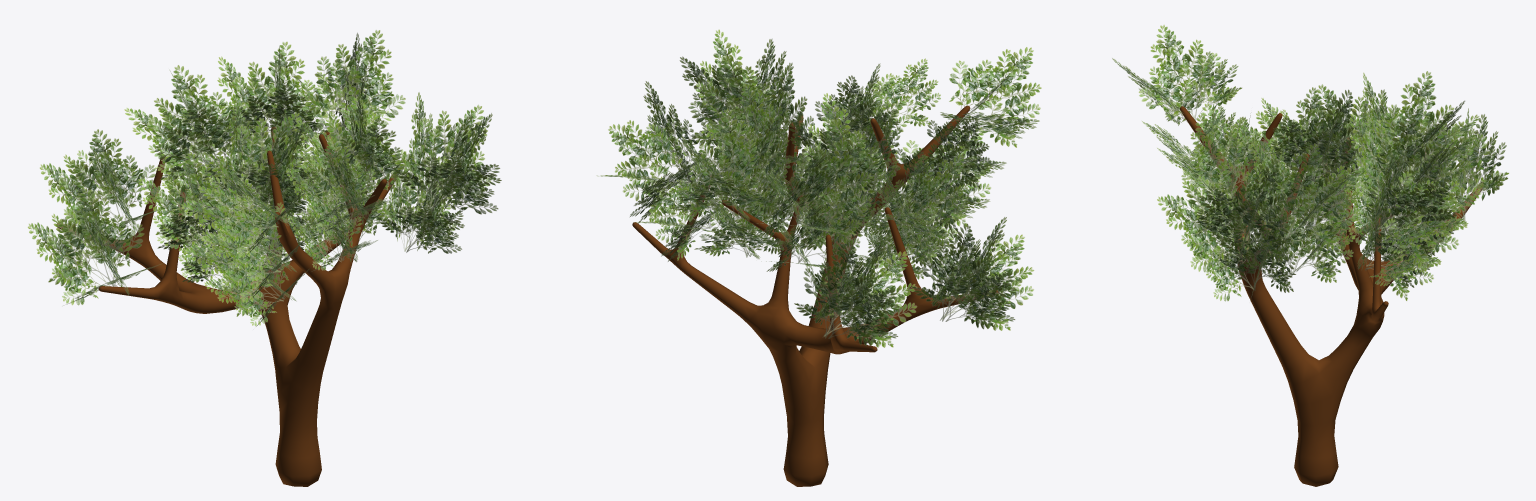
The model's file is acacia_02.glb.
The picture shows the model from 3 angles, left to right: view 1: azimuth 30°, elevation 25°; view 2: azimuth 150°, elevation 25°; view 3: azimuth 270°, elevation 25°; orthographic projection. The views are drawn at different scales.
Visible parts, largest first — view 1: acacia_02_leaves, acacia_02; view 2: acacia_02_leaves, acacia_02; view 3: acacia_02_leaves, acacia_02.
Part boxes in pixels (left/top/right/bottom): acacia_02_leaves: left=27, top=30, right=501, bottom=326; acacia_02: left=57, top=127, right=396, bottom=486; acacia_02_leaves: left=596, top=29, right=1041, bottom=347; acacia_02: left=632, top=105, right=999, bottom=486; acacia_02_leaves: left=1112, top=24, right=1509, bottom=301; acacia_02: left=1180, top=106, right=1483, bottom=486.
Size of the model in its own units: 6.93 by 6.06 by 5.67.
2 materials, 1 textured.
